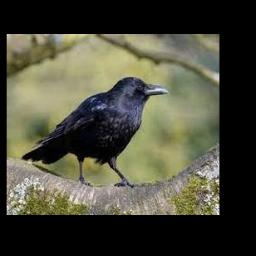Crow: (22, 77, 170, 187)
